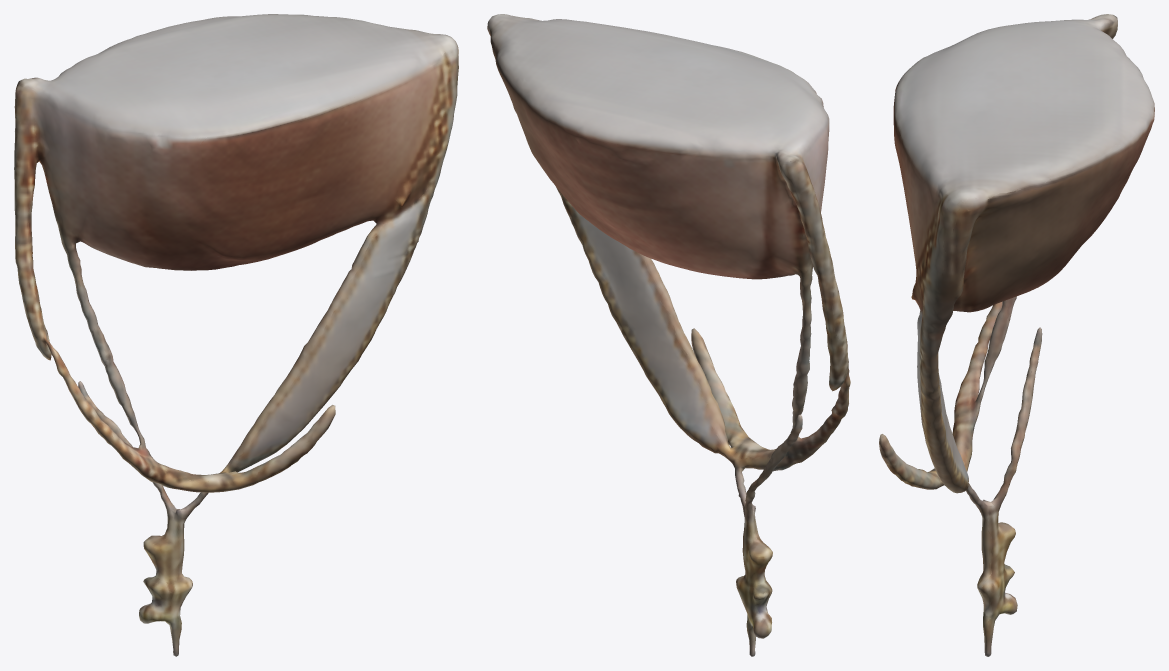
Rendered from cadenax1.glb.
3 views of the same model, side by side, from view 1: azimuth 30°, elevation 25°; view 2: azimuth 150°, elevation 25°; view 3: azimuth 270°, elevation 25° (orthographic). The views are drawn at different scales.
Visible parts, largest first — view 1: mesh; view 2: mesh; view 3: mesh.
Part boxes in pixels (x1,y1,x2,y2): mesh: [14, 14, 458, 656]; mesh: [487, 14, 850, 656]; mesh: [879, 14, 1154, 656].
Bounding box in the file's own units: 1.2 × 1.65 × 0.6814.
Materials: 1 (1 with a texture image).
